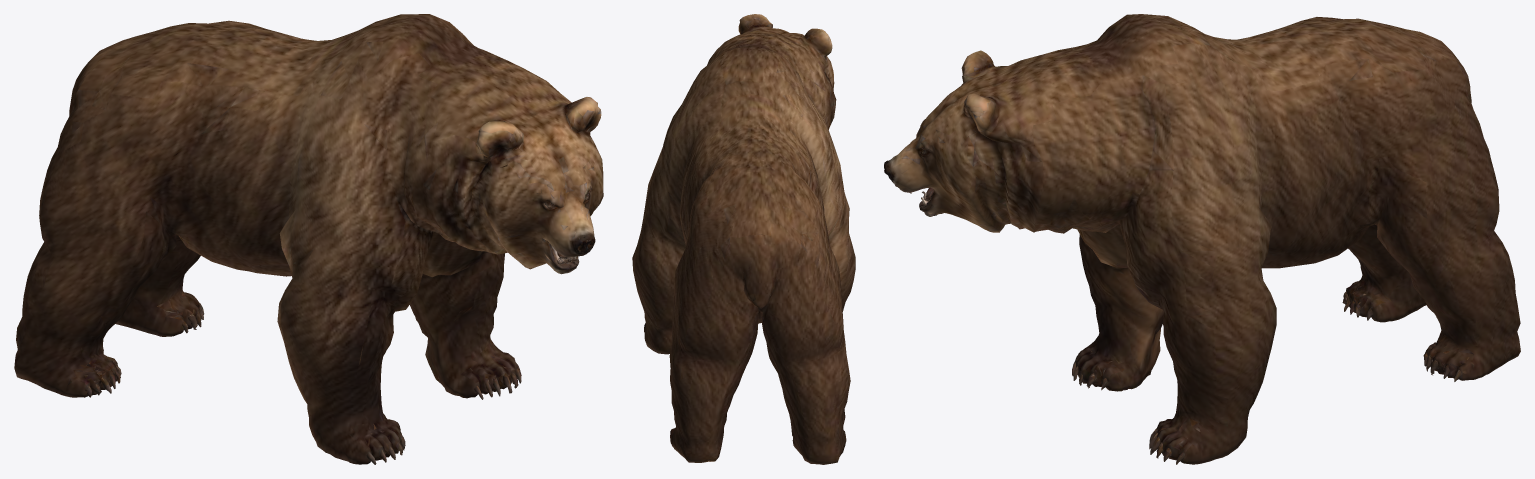
Rendered from bear.glb.
The picture shows the model from 3 angles, left to right: view 1: azimuth 30°, elevation 25°; view 2: azimuth 150°, elevation 25°; view 3: azimuth 270°, elevation 25°; orthographic projection. The views are drawn at different scales.
Size of the model in its own units: 0.6348 by 0.6348 by 0.9419.
1 material, 1 textured.
